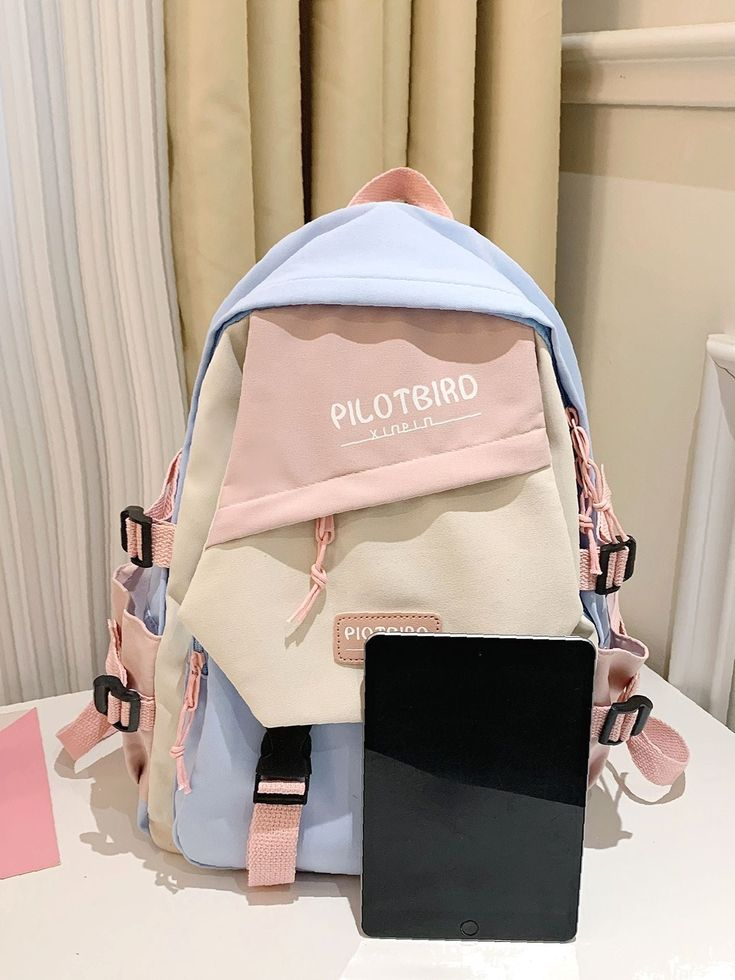nylon: (59, 168, 690, 888)
